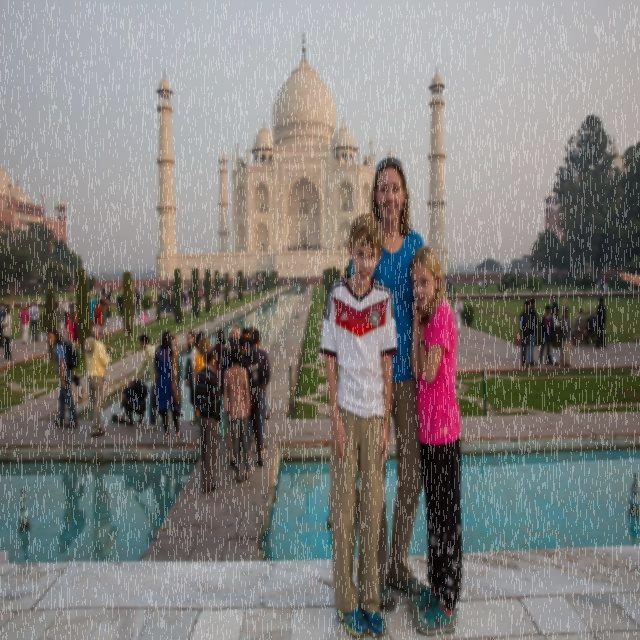pessoa: (347, 155, 429, 614), (318, 211, 399, 638), (407, 242, 464, 637), (53, 462, 119, 564), (228, 335, 266, 473), (130, 466, 186, 548), (192, 346, 222, 494), (222, 343, 252, 483), (45, 324, 80, 430), (152, 328, 184, 440), (83, 322, 112, 440), (128, 332, 162, 431), (248, 328, 272, 454), (217, 364, 236, 470), (210, 322, 252, 366), (115, 376, 148, 426), (190, 328, 206, 425), (182, 329, 198, 425), (193, 334, 218, 376), (538, 303, 554, 367), (548, 306, 564, 369), (558, 307, 574, 368), (519, 299, 532, 369), (528, 298, 540, 368), (593, 294, 608, 350), (548, 306, 562, 366), (0, 306, 13, 364), (569, 306, 587, 346), (583, 304, 600, 346), (18, 300, 32, 348), (452, 292, 465, 342), (156, 278, 174, 314), (280, 240, 328, 253), (66, 301, 80, 344), (28, 300, 40, 343), (617, 268, 640, 290), (202, 282, 225, 302), (592, 271, 610, 293), (242, 274, 263, 292), (56, 299, 66, 335), (0, 300, 7, 350), (94, 284, 112, 302), (132, 286, 142, 318), (95, 299, 103, 336), (62, 296, 70, 331), (88, 295, 95, 334), (99, 302, 108, 328), (550, 293, 560, 316), (74, 302, 80, 340), (90, 292, 100, 314), (180, 278, 187, 308), (116, 292, 124, 318), (291, 275, 306, 288), (482, 274, 490, 297), (562, 296, 570, 317), (476, 276, 484, 296), (446, 272, 452, 298), (132, 288, 137, 318), (53, 299, 59, 320), (186, 286, 192, 304), (232, 278, 238, 294), (118, 279, 122, 302), (198, 286, 203, 304), (452, 278, 457, 296), (138, 284, 143, 301), (68, 296, 74, 310), (277, 274, 284, 286), (334, 242, 341, 252), (143, 284, 147, 299), (136, 284, 140, 299), (157, 271, 162, 280), (187, 278, 190, 288), (166, 270, 168, 280)
